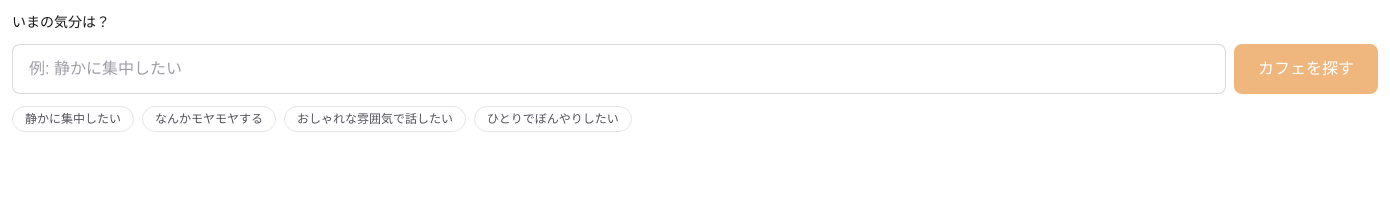
Test case: MoodRecommender（統合） › 0件なら見つからなかった旨が出る
In the field labelled "いまの気分は？": [619, 69] box [12,44,1226,94], type "静かに集中したい"
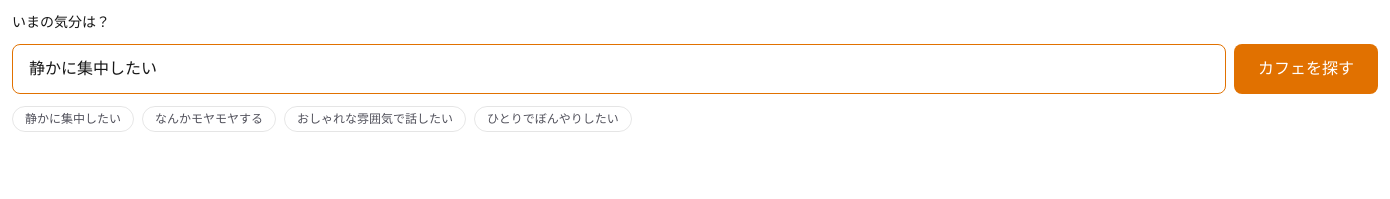
Click the button "カフェを探す": [1306, 69] box [1234,44,1378,94]
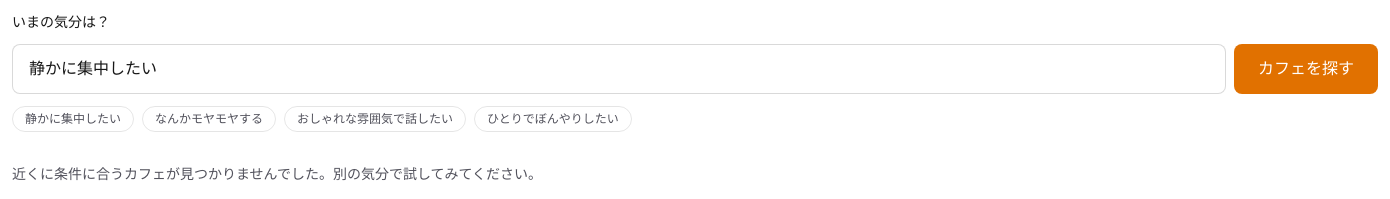
Check: the text "近くに条件に合うカフェが見つかりませんでした。別の気分で試してみてください。" is shown, box [12,166,542,182]
